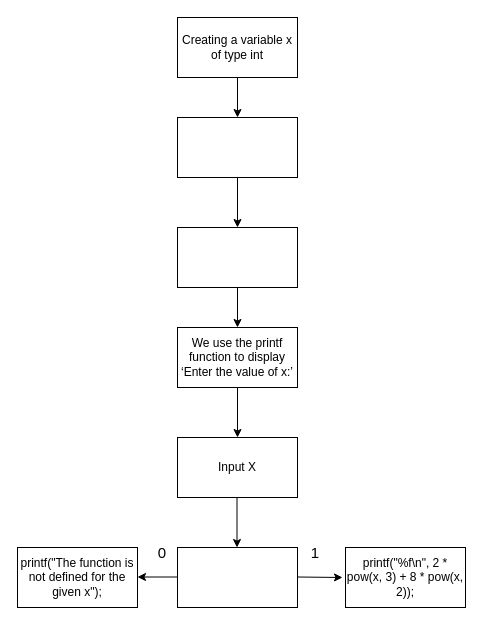
This 483x625 diagram has some shape labels left out. Each missing label, with the centre of its shape:
Creating a variable is_calculated of type bool with value false: [237,257]
Creating a variable result of type double with value 0: [237,147]
x < -19 || (x > -3 && x <= 0): [237,577]
